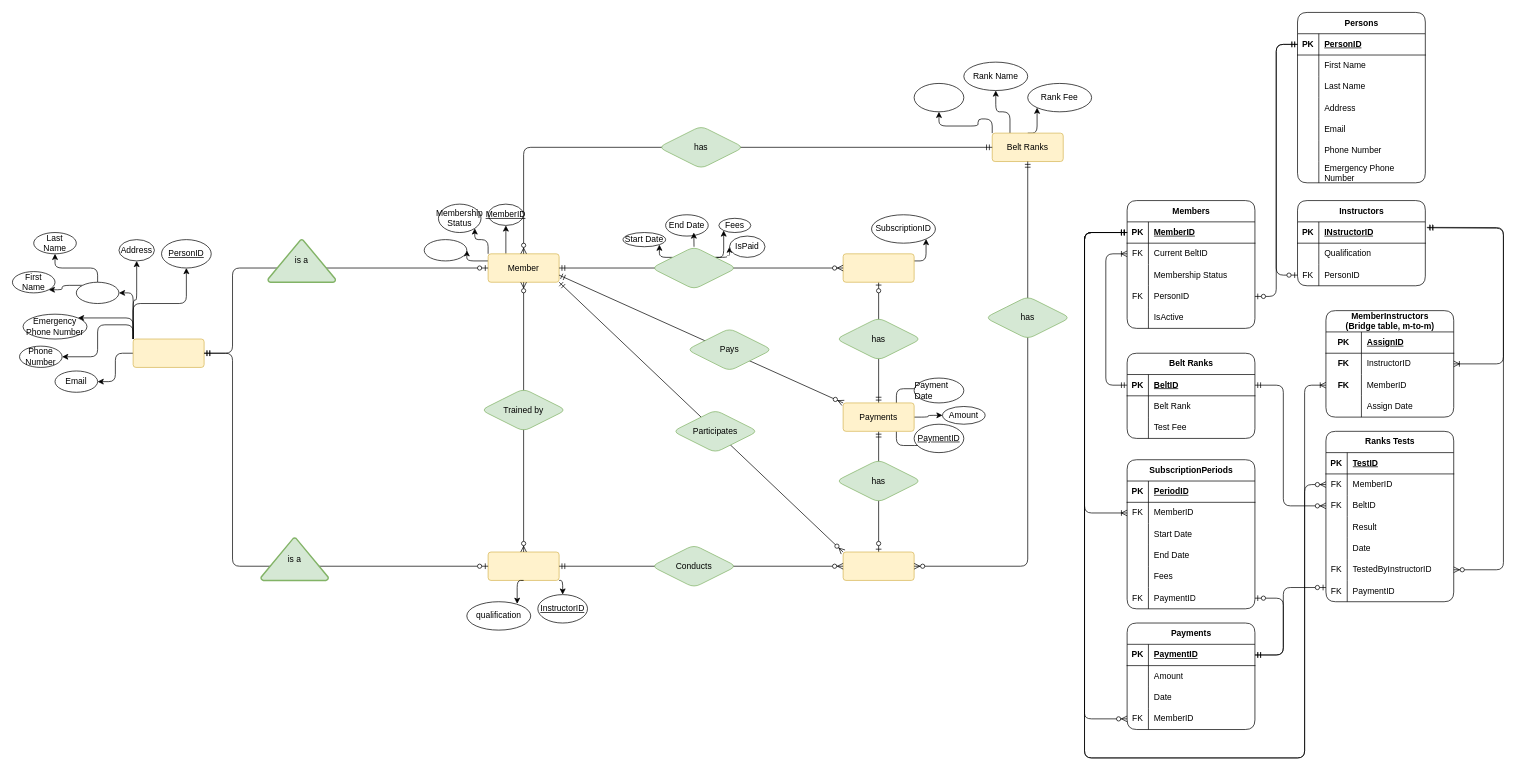
This 1522x777 diagram has some shape labels left out. The shapes that lost their labels are listed below. From the top down, each one's centre as x and y in pixels, then its label:
At [938,97]: "RankID".
At [445,250]: "Current Belt Rank".
At [694,267]: "subscribes in".
At [878,267]: "Subscription Period".
At [97,293]: "Name".
At [168,352]: "Person".
At [523,565]: "instructor".
At [878,565]: "Rank Tests".
